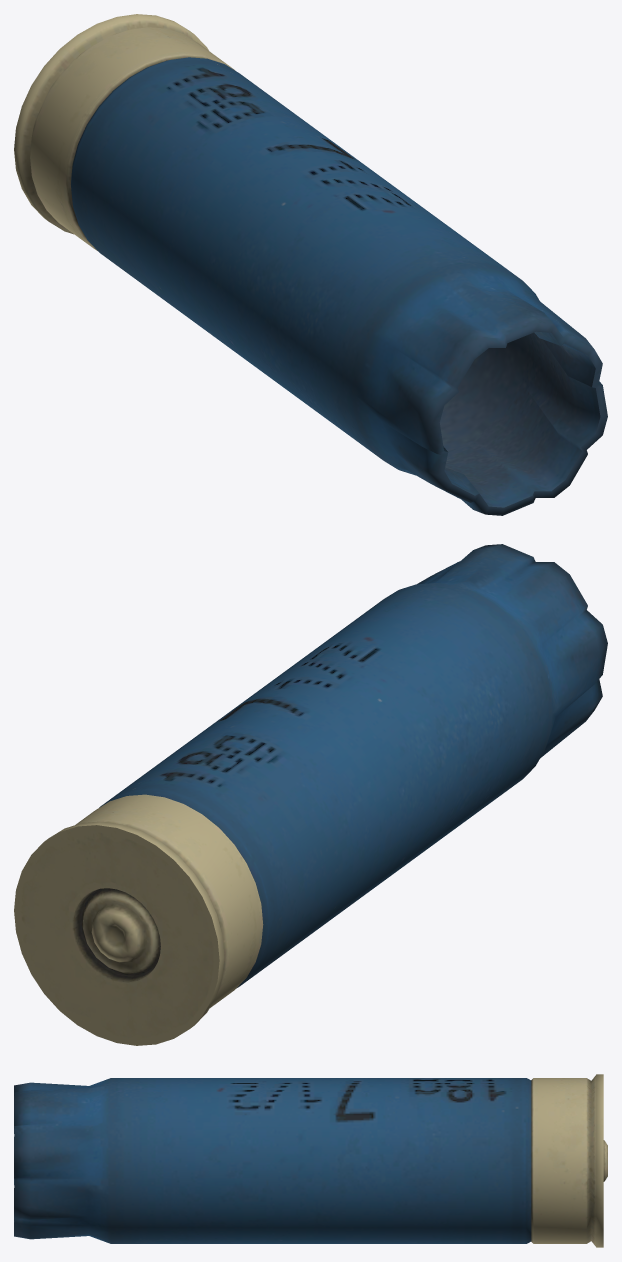
The model's file is casing_mag7_casing.glb.
The picture shows the model from 3 angles, top to bottom: view 1: azimuth 30°, elevation 25°; view 2: azimuth 150°, elevation 25°; view 3: azimuth 270°, elevation 25°; orthographic projection. The views are drawn at different scales.
Visible parts, largest first — view 1: casing_mag7_casing; view 2: casing_mag7_casing; view 3: casing_mag7_casing.
Boxes of the visible parts, box(x1,y1,x2,y2) form: casing_mag7_casing: box(14, 14, 607, 515); casing_mag7_casing: box(14, 544, 607, 1045); casing_mag7_casing: box(14, 1074, 607, 1247).
Bounding box in the file's own units: 0.0177 × 0.0177 × 0.0606.
Materials: 1 (1 with a texture image).
